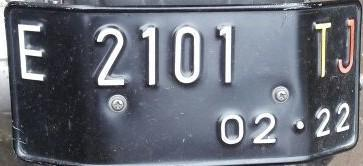0: (165, 18, 207, 90)
1: (129, 19, 170, 92), (205, 20, 240, 90)
2: (85, 21, 132, 90)
E: (10, 21, 57, 82)
J: (336, 16, 359, 76)
T: (309, 17, 336, 80)
